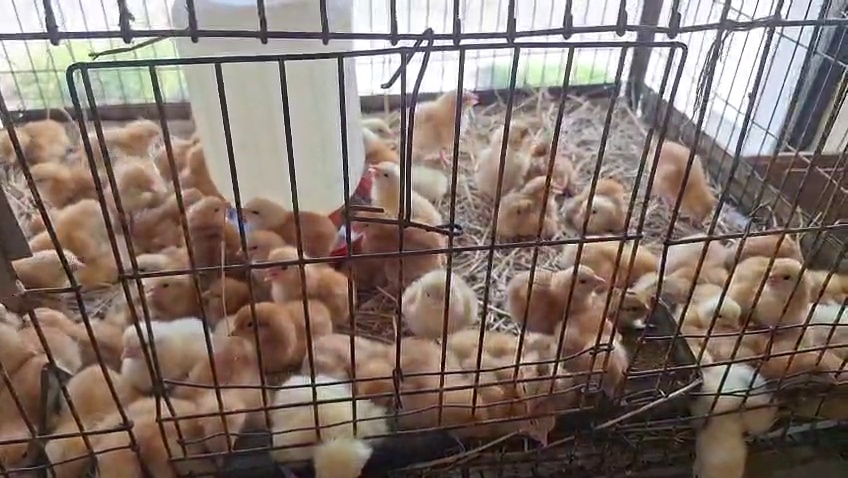Pollo: (278, 367, 413, 478), (178, 337, 276, 462), (683, 356, 782, 478), (40, 362, 142, 477), (402, 331, 486, 441), (502, 246, 608, 333), (229, 284, 334, 371), (257, 245, 361, 332), (20, 279, 135, 356), (489, 314, 588, 401), (547, 318, 646, 405), (106, 391, 205, 478), (310, 316, 409, 403), (123, 309, 221, 396), (646, 130, 735, 219), (399, 262, 487, 341), (358, 197, 447, 275), (741, 248, 819, 335), (499, 328, 583, 408), (418, 74, 494, 161), (99, 130, 178, 213), (475, 104, 550, 191), (0, 345, 51, 471), (29, 194, 123, 262), (480, 391, 578, 451), (371, 127, 461, 192), (494, 174, 574, 247), (183, 188, 257, 261), (572, 231, 675, 283), (692, 278, 772, 338), (668, 225, 751, 282), (776, 336, 848, 398), (567, 172, 641, 232), (29, 143, 103, 201), (146, 176, 206, 245), (608, 281, 681, 337), (137, 261, 208, 316), (364, 159, 452, 203), (251, 193, 353, 229), (0, 115, 68, 168), (215, 258, 270, 321), (245, 221, 300, 284), (67, 117, 152, 154), (536, 127, 591, 179), (8, 249, 83, 286), (161, 124, 211, 176), (186, 146, 236, 197), (370, 93, 420, 141), (126, 248, 189, 280)
